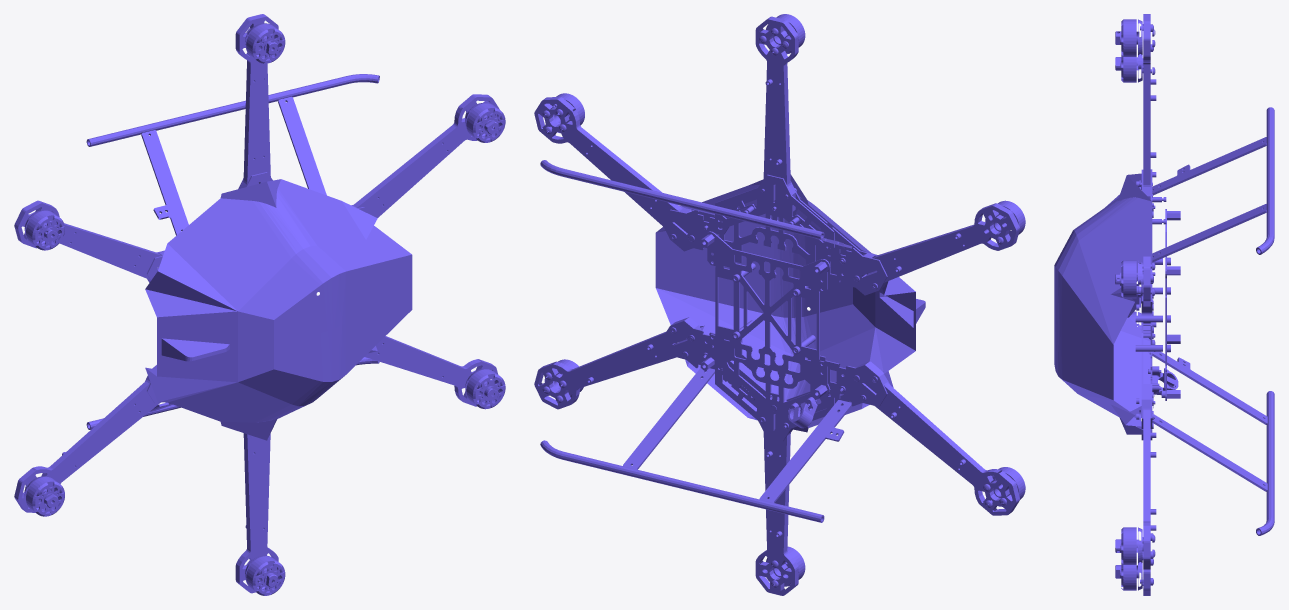
Rendered from firefly_purple.dae.
3 renders of one model, left to right at view 1: azimuth 30°, elevation 25°; view 2: azimuth 150°, elevation 25°; view 3: azimuth 270°, elevation 25°, orthographic.
Visible parts, largest first — view 1: firefly_purple; view 2: firefly_purple; view 3: firefly_purple.
Boxes of the visible parts, bbox=[...] form: firefly_purple: bbox=[14, 14, 505, 595]; firefly_purple: bbox=[534, 14, 1025, 595]; firefly_purple: bbox=[1054, 14, 1274, 595].
Bounding box in the file's own units: 0.4092 × 0.1617 × 0.4651.
